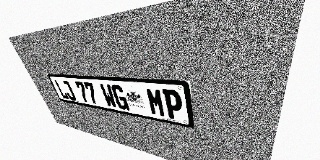7: (83, 82, 101, 105), (74, 81, 91, 104)
G: (110, 84, 130, 111)
J: (61, 80, 77, 101)
L: (54, 80, 70, 100)
M: (145, 87, 166, 117)
P: (162, 89, 184, 121)
W: (99, 83, 118, 108)
